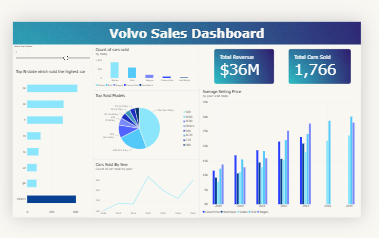

The dashboard page shown, as its layout file describes it:
{"tool":"powerbi","page":{"name":"Page 1","canvas":[1920,1080],"ordinal":0},"visuals":[{"type":"lineChart","title":"Cars Sold By Year","fields":{"Category":["car_prices.year"],"Y":["CountNonNull(car_prices.vin)"]},"box":[443.3,755,586.7,325],"z":0},{"type":"group","id":"g1","title":"Group 1","box":[1114,154,330,192],"z":1000},{"type":"columnChart","title":"Count of cars sold","fields":{"Category":["car_prices.body"],"Series":["car_prices.body"],"Y":["CountNonNull(car_prices.vin)"]},"box":[443.3,125,586.7,250],"z":2000},{"type":"image","box":[1114,154.4,332.3,194.4],"z":3000,"group":"g1"},{"type":"image","box":[1522,154.4,345.5,194.4],"z":3000,"group":"g2"},{"type":"pieChart","title":"Top Sold Models","fields":{"Category":["Top N Model.Model"],"Y":["car_prices.Dynamic Top N models"]},"box":[443.3,375,586.7,380],"z":3000},{"type":"cardVisual","fields":{"Data":["car_prices.Total Revenue"]},"box":[1114,154,332.3,194.4],"z":4000,"group":"g1"},{"type":"cardVisual","fields":{"Data":["car_prices.Total Cars Sold"]},"box":[1522,154,345.5,194.4],"z":4000,"group":"g2"},{"type":"group","id":"g2","title":"Group 1","box":[1522,154,345.5,194.8],"z":4000},{"type":"clusteredColumnChart","fields":{"Category":["car_prices.year"],"Series":["car_prices.body"],"Y":["car_prices.Average Price"]},"box":[1030,360,890,720],"z":5000},{"type":"actionButton","box":[0,0,1920,126],"z":6000},{"type":"clusteredBarChart","title":"Top N state which sold the highest car","fields":{"Category":["Top N Axis.State"],"Y":["car_prices.Dynamic Top N Cars"]},"box":[0,250,444,830],"z":7000},{"type":"slicer","fields":{"Values":["Top N slicer.Top N slicer"]},"box":[0,128,444,124],"z":8000}]}

Visuals, with their boxes on the page's 1920x1080 design canvas (x1, y1, x2, y2). These are canvas units, not pixel positions in the 379x238 screenshot, which may show the page scaled, cropped or inside an application window:
"Cars Sold By Year" lineChart: {"left": 443, "top": 755, "right": 1030, "bottom": 1080}
"Group 1" group: {"left": 1114, "top": 154, "right": 1444, "bottom": 346}
"Count of cars sold" columnChart: {"left": 443, "top": 125, "right": 1030, "bottom": 375}
image: {"left": 1114, "top": 154, "right": 1446, "bottom": 349}
image: {"left": 1522, "top": 154, "right": 1868, "bottom": 349}
"Top Sold Models" pieChart: {"left": 443, "top": 375, "right": 1030, "bottom": 755}
cardVisual - car_prices.Total Revenue: {"left": 1114, "top": 154, "right": 1446, "bottom": 348}
cardVisual - car_prices.Total Cars Sold: {"left": 1522, "top": 154, "right": 1868, "bottom": 348}
"Group 1" group: {"left": 1522, "top": 154, "right": 1868, "bottom": 349}
clusteredColumnChart - car_prices.year x car_prices.body: {"left": 1030, "top": 360, "right": 1920, "bottom": 1080}
actionButton: {"left": 0, "top": 0, "right": 1920, "bottom": 126}
"Top N state which sold the highest car" clusteredBarChart: {"left": 0, "top": 250, "right": 444, "bottom": 1080}
slicer - Top N slicer.Top N slicer: {"left": 0, "top": 128, "right": 444, "bottom": 252}
